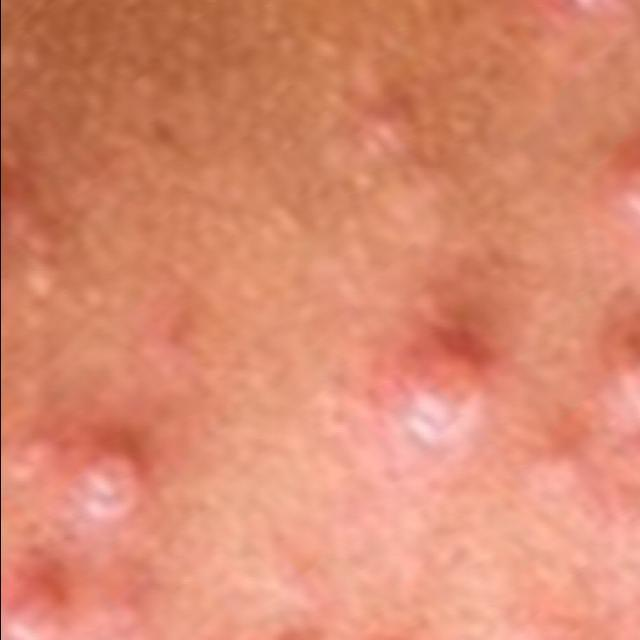acne: (374, 313, 496, 467), (58, 413, 168, 549), (0, 575, 150, 640), (0, 171, 59, 316), (512, 442, 602, 526), (594, 315, 640, 437), (591, 127, 640, 240), (542, 0, 640, 40)
